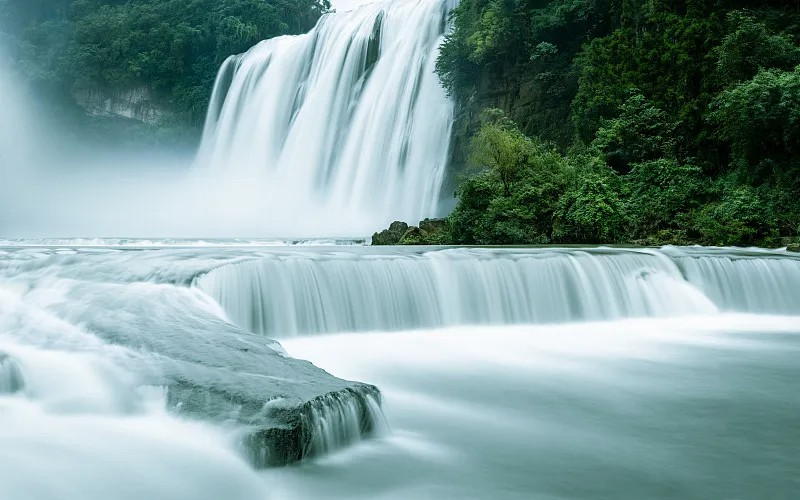Huangguoshu: (190, 1, 454, 242)
